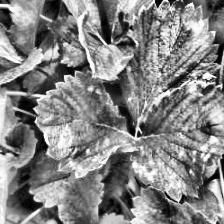Powdery Mildew Leaf: (117, 0, 221, 128), (128, 78, 224, 203), (31, 68, 137, 178), (76, 8, 135, 82), (128, 186, 224, 224)
